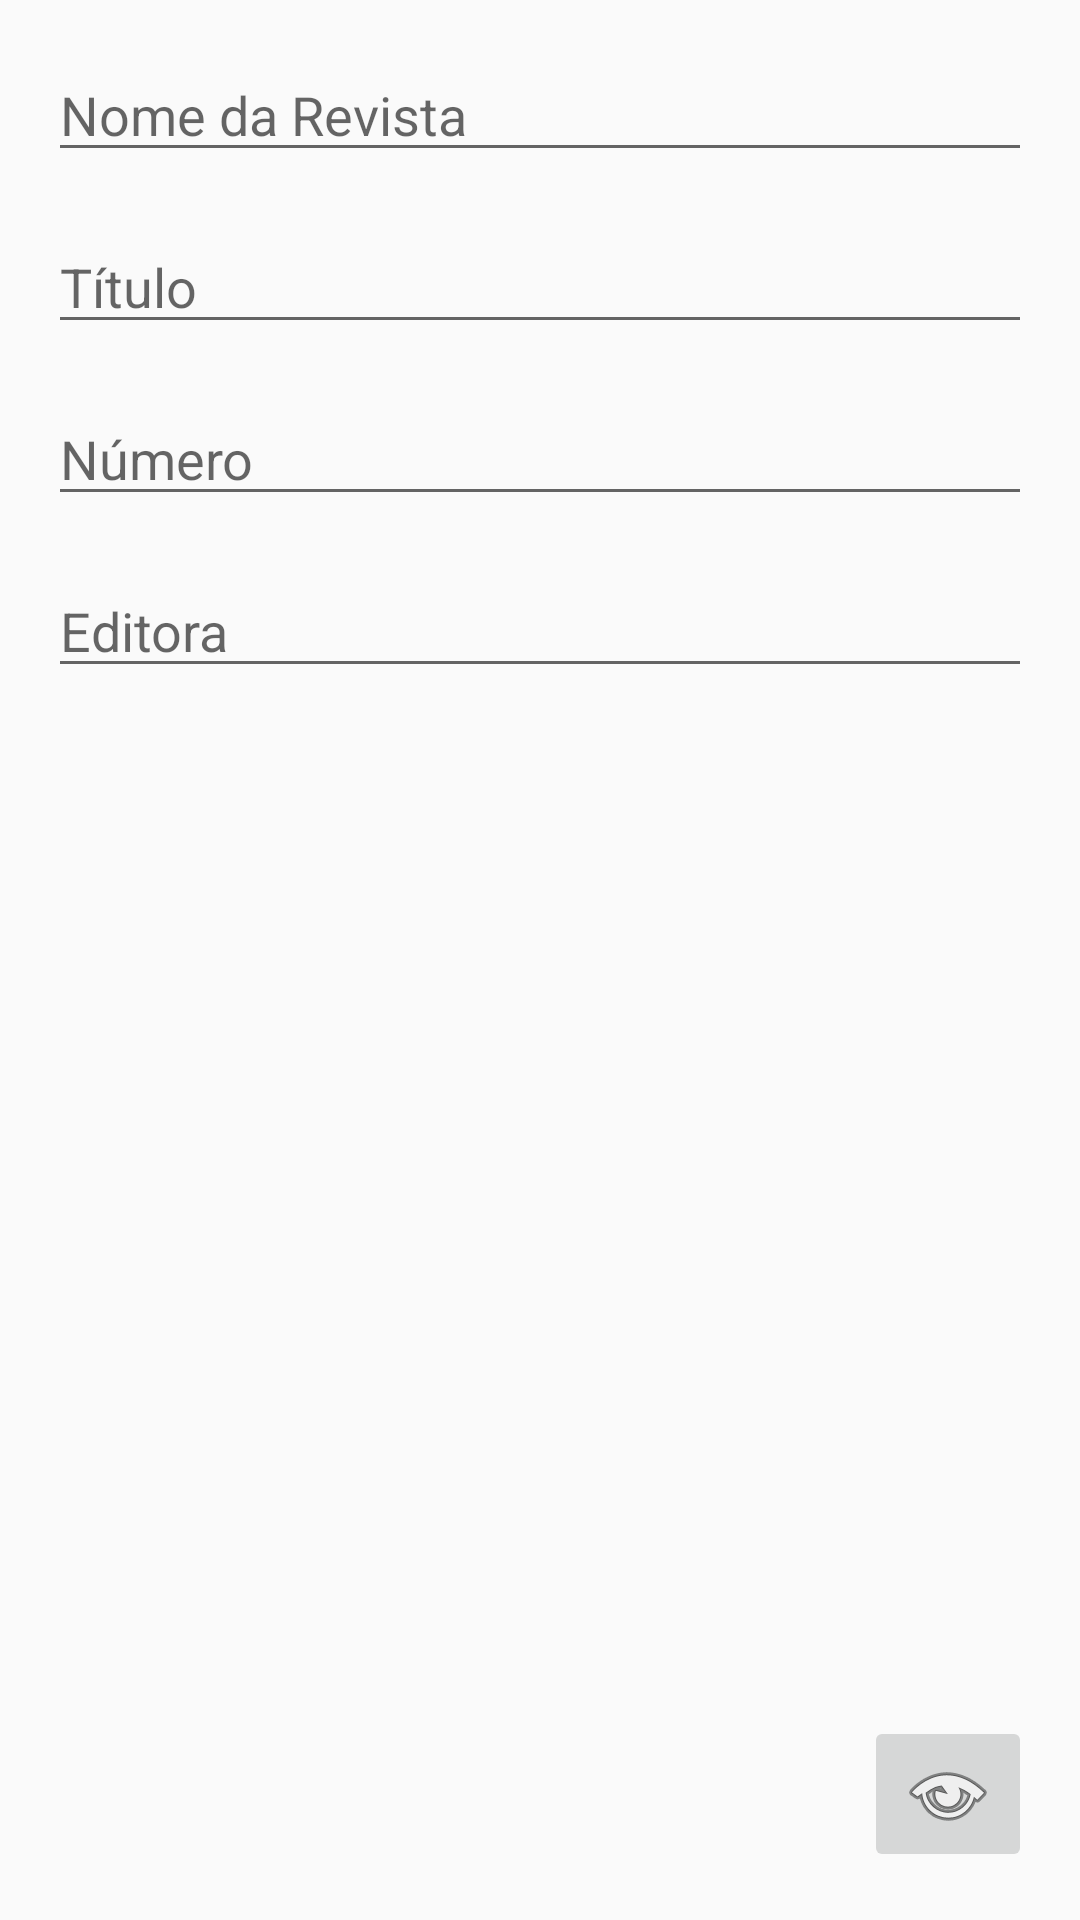

Named icons in this screenshot (1080×1920) and their bounding boxes, Rect(x1, y1, x2, y2):
view: Rect(876, 1734, 1020, 1854)
